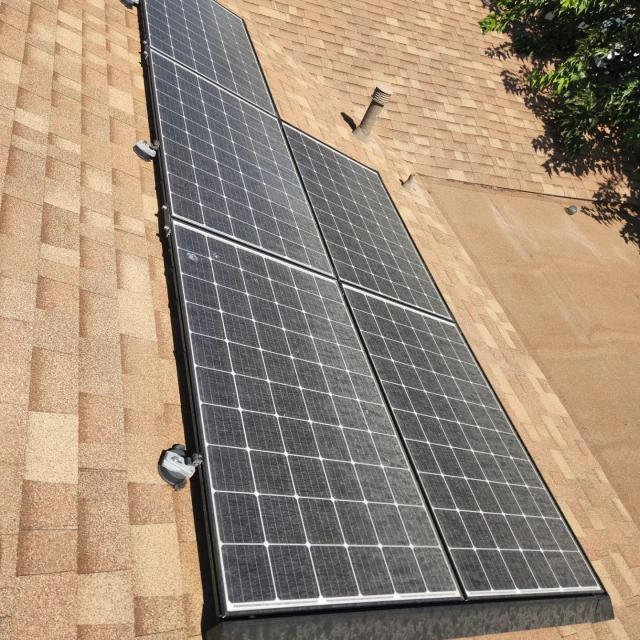dust-solar-panel: (139, 2, 603, 609)
